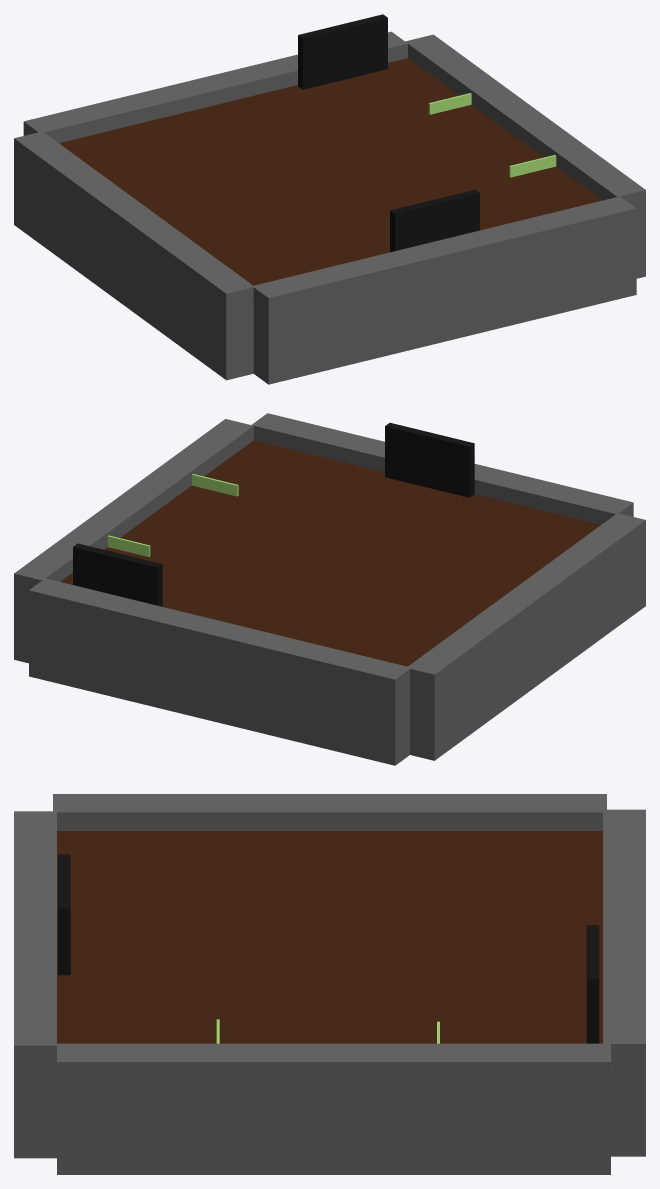
The model's file is sala1.obj.glb.
The picture shows the model from 3 angles, top to bottom: view 1: azimuth 30°, elevation 25°; view 2: azimuth 150°, elevation 25°; view 3: azimuth 270°, elevation 25°; orthographic projection. The views are drawn at different scales.
Parts seen in each view (by area): view 1: Plano.001, Cubo.003, Cubo.008, Cubo.002, Cubo.001, Cubo.005, Cubo.004, Cubo.009, Cubo.010; view 2: Plano.001, Cubo.001, Cubo.008, Cubo.002, Cubo.003, Cubo.004, Cubo.005, Cubo.009, Cubo.010; view 3: Plano.001, Cubo.002, Cubo.008, Cubo.003, Cubo.001, Cubo.005, Cubo.004.
Boxes of the visible parts, x1=… form: Plano.001: x1=59, y1=58, x2=602, y2=302; Cubo.003: x1=253, y1=196, x2=636, y2=384; Cubo.008: x1=14, y1=131, x2=254, y2=380; Cubo.002: x1=405, y1=34, x2=645, y2=278; Cubo.001: x1=23, y1=31, x2=407, y2=142; Cubo.005: x1=298, y1=14, x2=387, y2=89; Cubo.004: x1=390, y1=189, x2=479, y2=252; Cubo.009: x1=509, y1=155, x2=556, y2=177; Cubo.010: x1=428, y1=93, x2=471, y2=114; Plano.001: x1=60, y1=440, x2=600, y2=666; Cubo.001: x1=29, y1=578, x2=410, y2=765; Cubo.008: x1=406, y1=513, x2=645, y2=760; Cubo.002: x1=14, y1=419, x2=253, y2=663; Cubo.003: x1=251, y1=413, x2=633, y2=524; Cubo.004: x1=385, y1=422, x2=474, y2=497; Cubo.005: x1=73, y1=543, x2=162, y2=606; Cubo.009: x1=192, y1=474, x2=238, y2=496; Cubo.010: x1=107, y1=535, x2=150, y2=556; Plano.001: x1=57, y1=831, x2=602, y2=1043; Cubo.002: x1=57, y1=1043, x2=610, y2=1174; Cubo.008: x1=53, y1=794, x2=606, y2=830; Cubo.003: x1=14, y1=811, x2=56, y2=1158; Cubo.001: x1=603, y1=809, x2=645, y2=1156; Cubo.005: x1=586, y1=925, x2=599, y2=1043; Cubo.004: x1=58, y1=854, x2=70, y2=975.
Size of the model in its own units: 4583 by 1284 by 4569.
